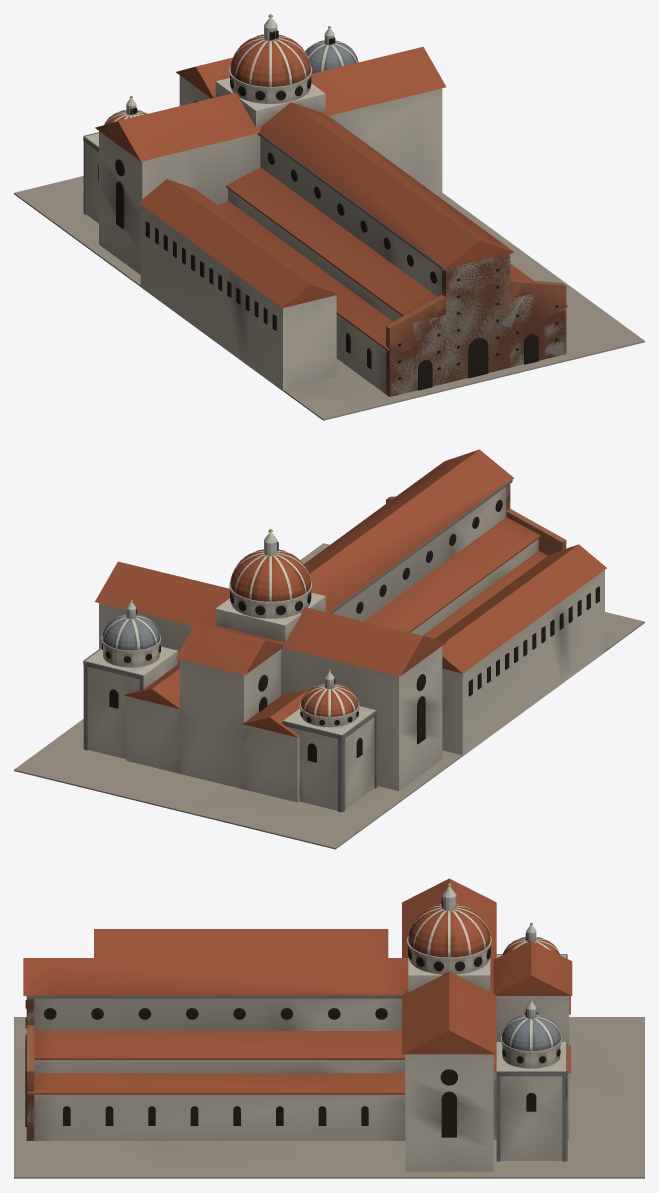
The model's file is san-lorenzo-1600.glb.
3 renders of one model, top to bottom at view 1: azimuth 30°, elevation 25°; view 2: azimuth 150°, elevation 25°; view 3: azimuth 270°, elevation 25°, orthographic.
Parts seen in each view (by area): view 1: p0_walls, p1_roofs, p2_domes; view 2: p0_walls, p2_domes, p1_roofs; view 3: p0_walls, p1_roofs, p2_domes.
Part boxes in pixels (x1,y1,x2,y2): p0_walls: (14,75,644,420); p1_roofs: (95,46,567,350); p2_domes: (83,14,358,390); p0_walls: (14,462,644,849); p2_domes: (83,529,606,812); p1_roofs: (95,449,548,676); p0_walls: (14,995,644,1178); p1_roofs: (23,878,572,1094); p2_domes: (94,883,567,1161).
Bounding box in the file's own units: 60.3 × 37.63 × 100.
